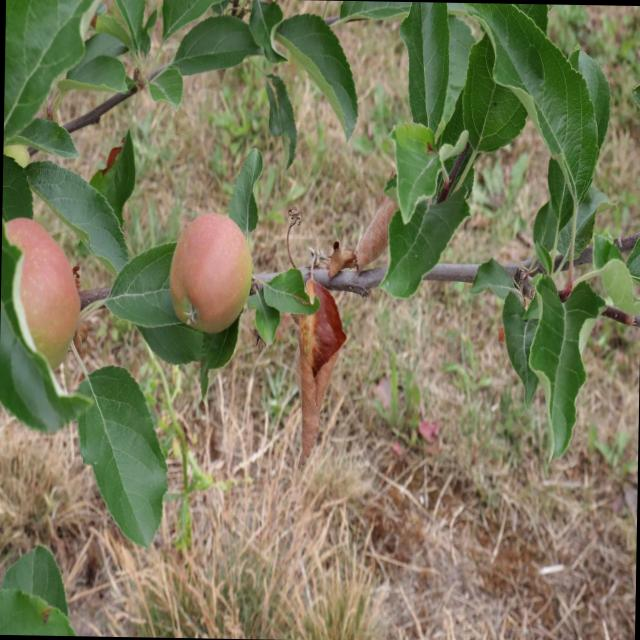-FireBlight-: (300, 274, 348, 466)
